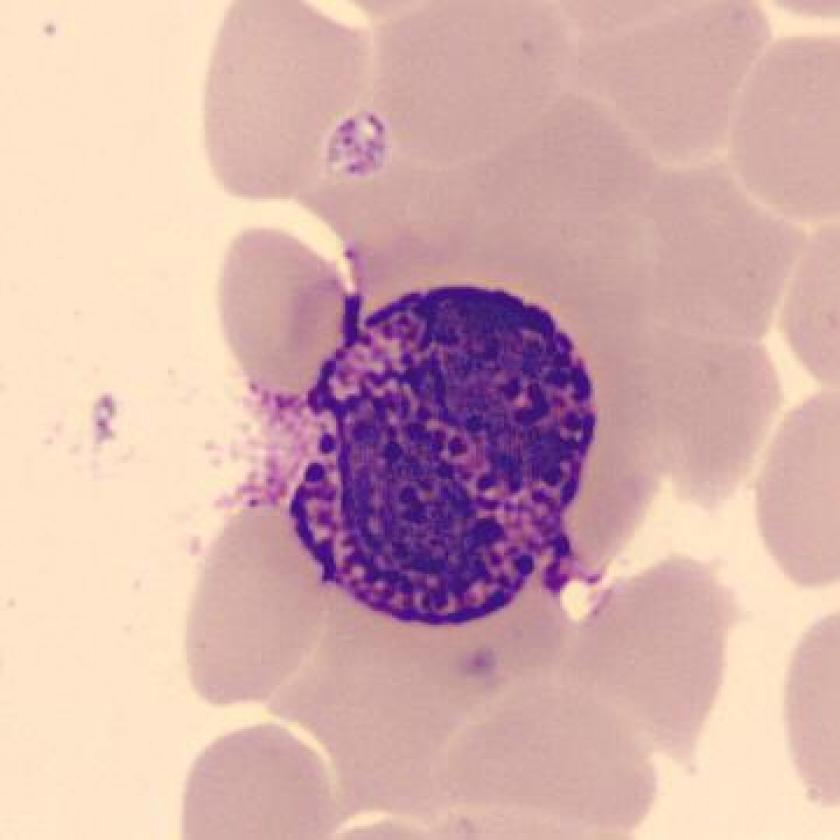basophil: (288, 279, 603, 642)
